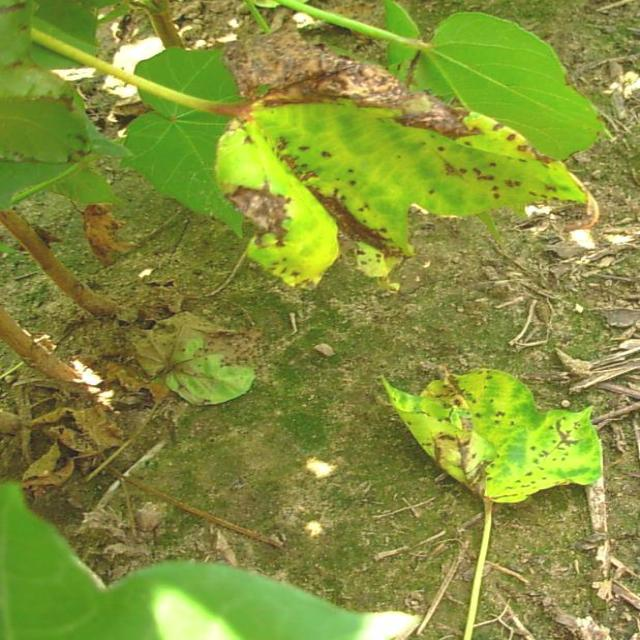Bacterial Blight: (207, 67, 560, 273)
